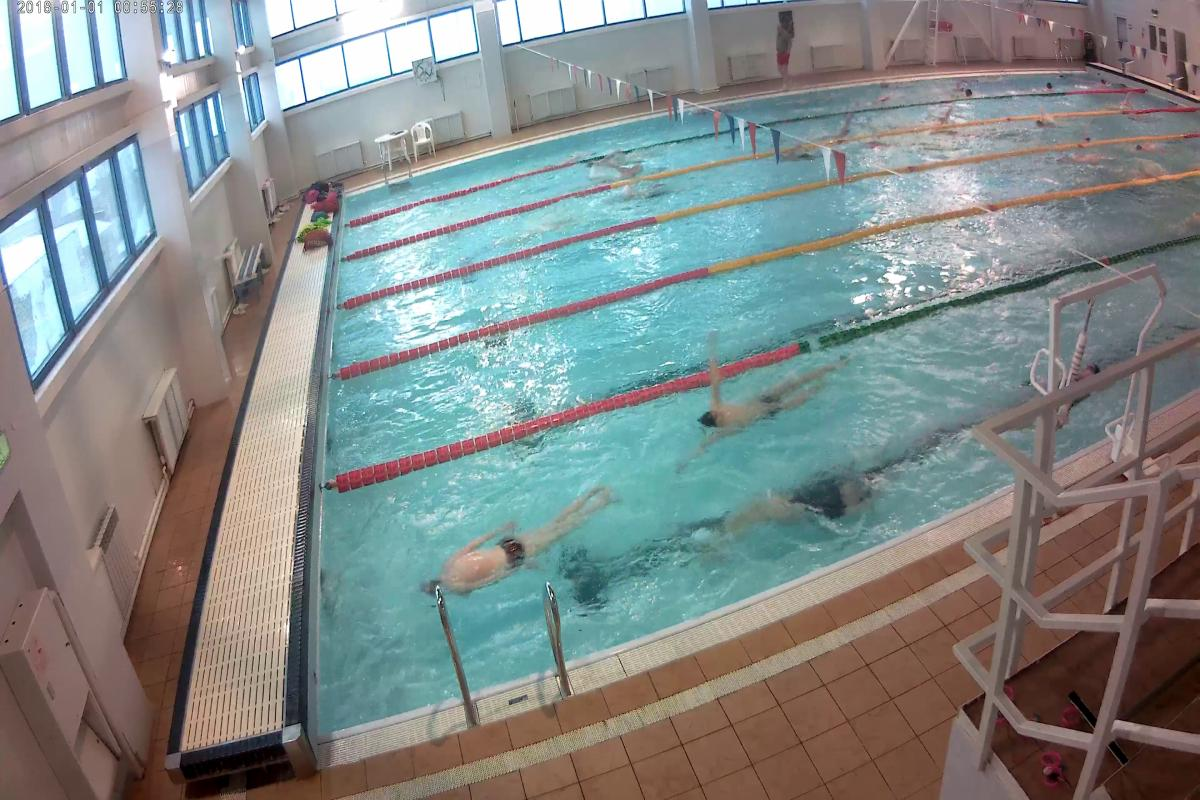swimmer: (406, 493, 598, 574), (658, 368, 877, 425), (688, 476, 915, 526)
